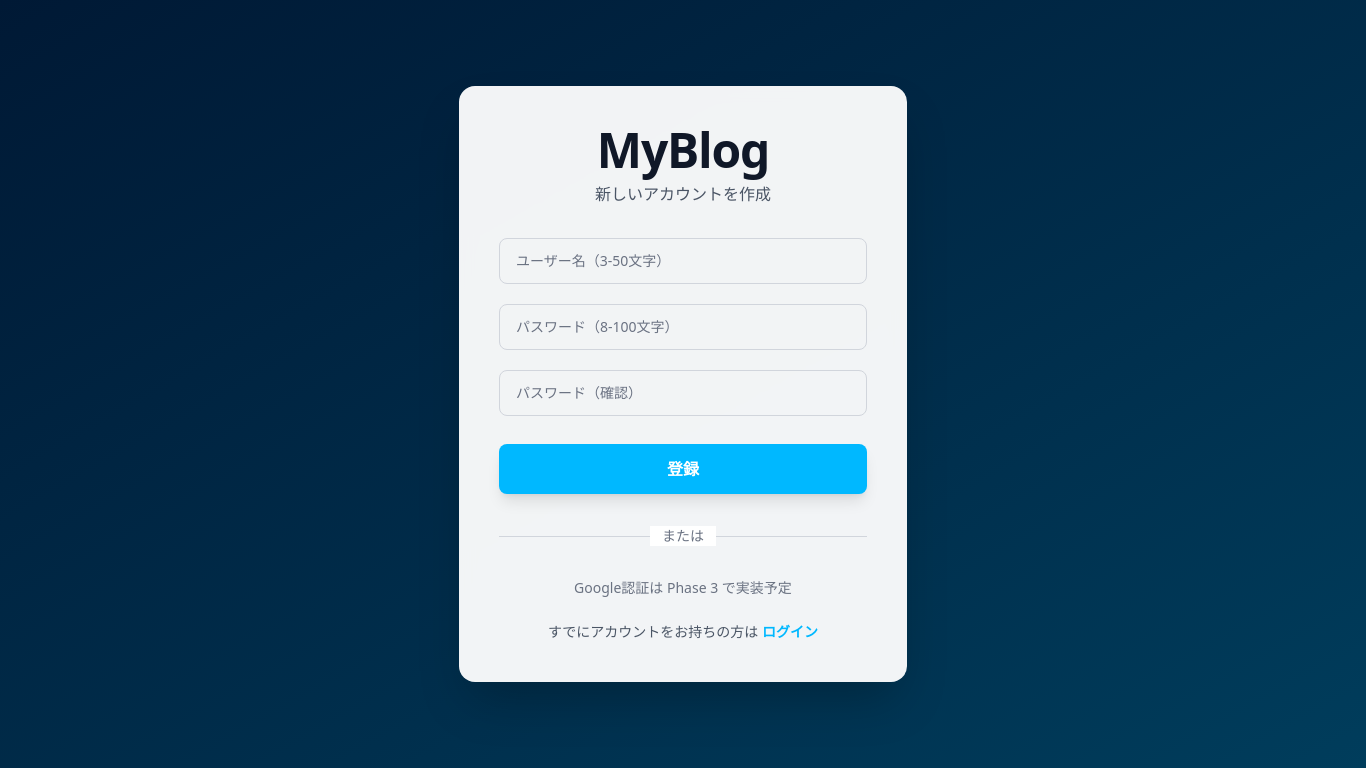
Test case: RegisterPage › 登録機能 › 登録中はボタンが無効化され、テキストが変わる
The width and height of the screenshot is (1366, 768).
Step 1. Type "newuser" into the field with placeholder "ユーザー名（3-50文字）" → (683, 261), box [499,238,867,284]
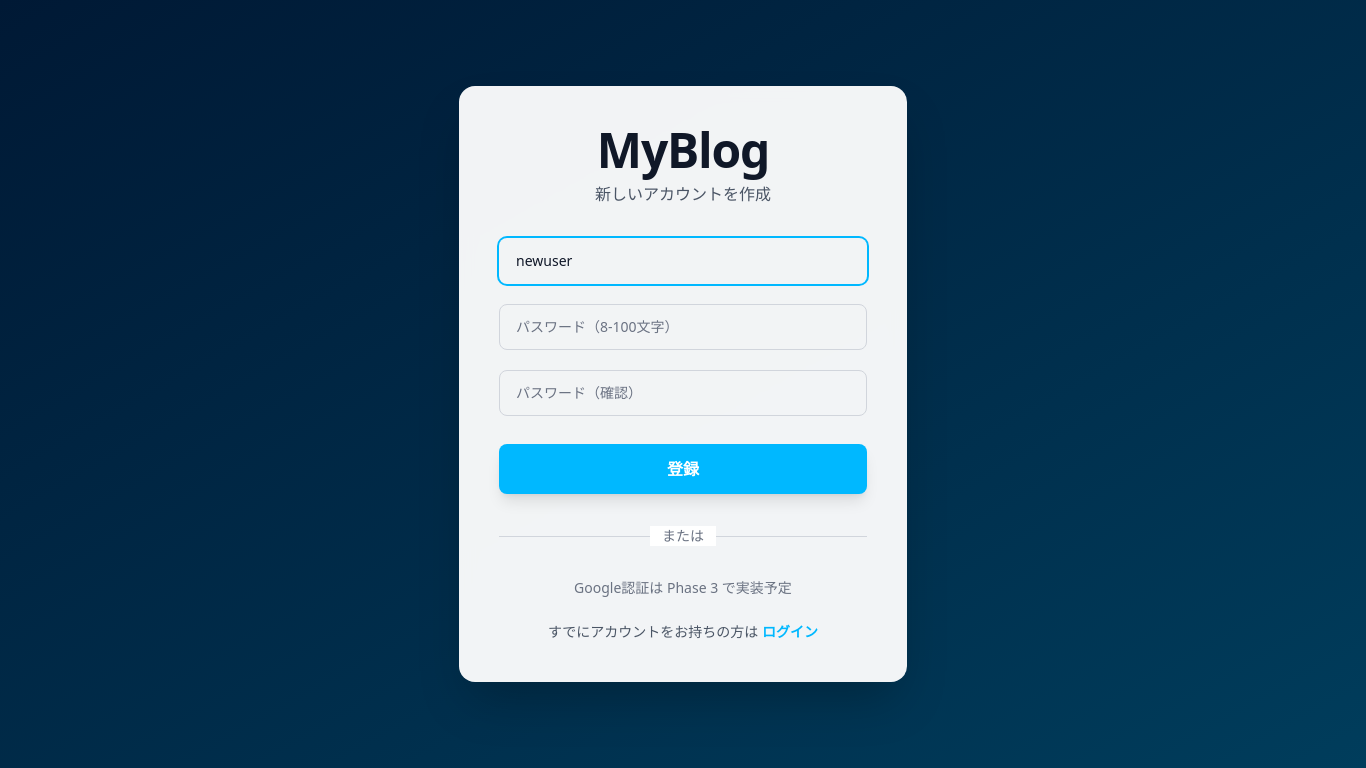
Step 2. Type "password123" into the password field with placeholder "パスワード（8-100文字）" → (683, 327), box [499,304,867,350]
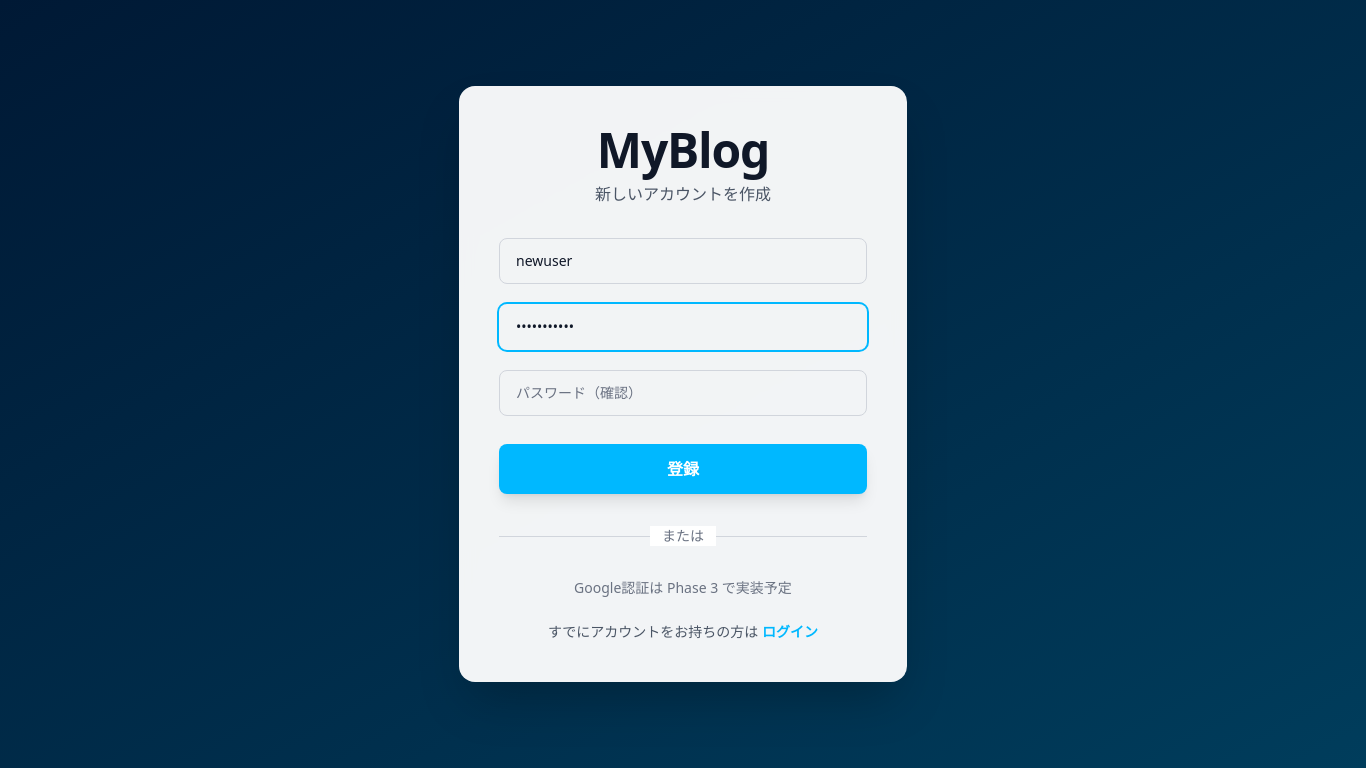
Step 3. Type "password123" into the password field with placeholder "パスワード（確認）" → (683, 393), box [499,370,867,416]
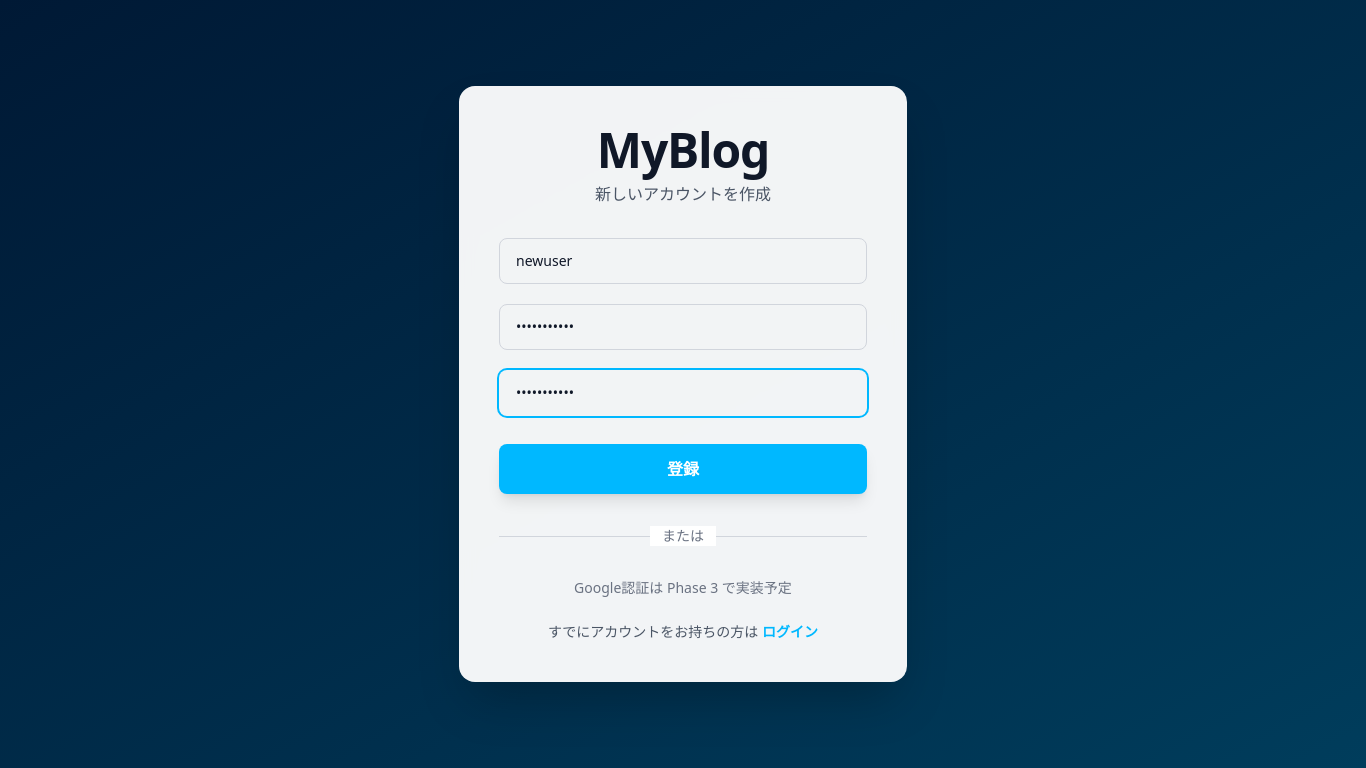
Step 4. Click the button "登録" → (683, 469), box [499,444,867,494]
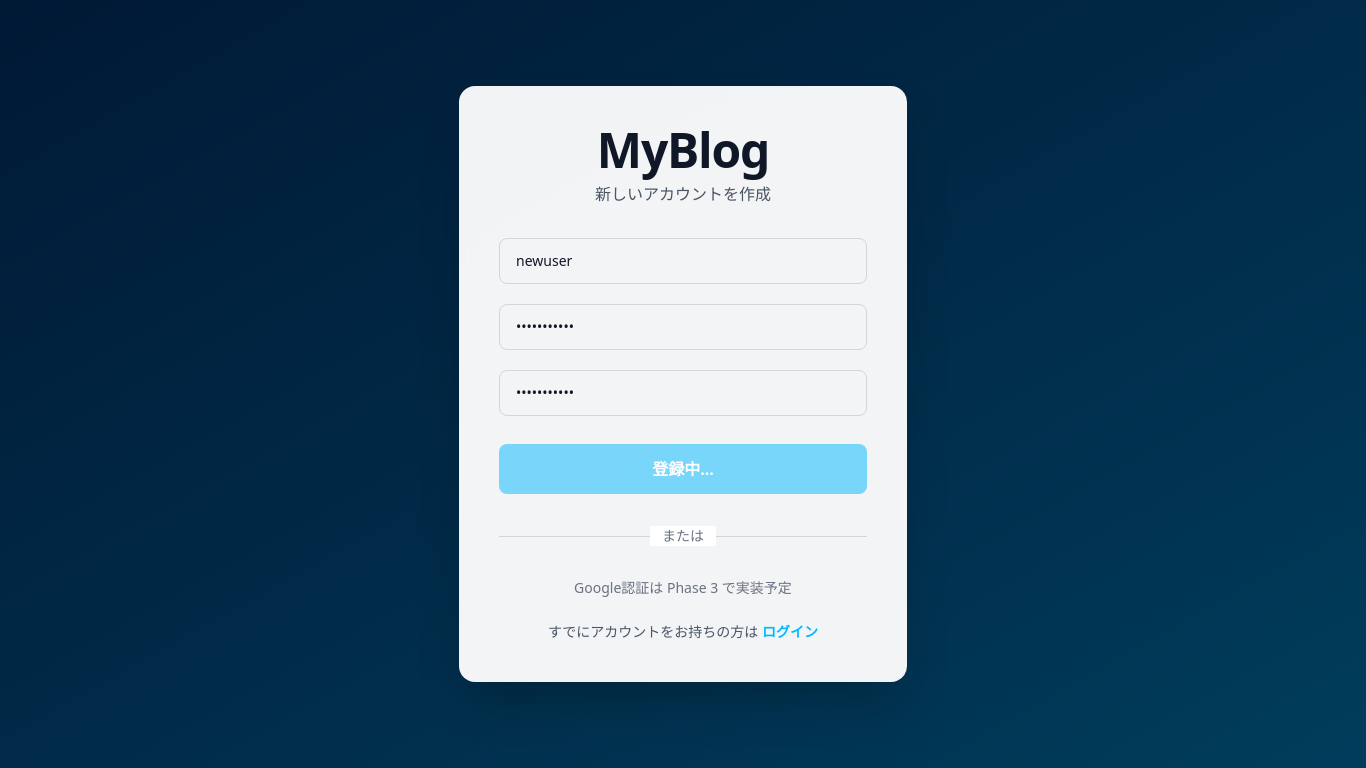
Expected: the button "登録中..." is disabled, [499,444,867,494]
